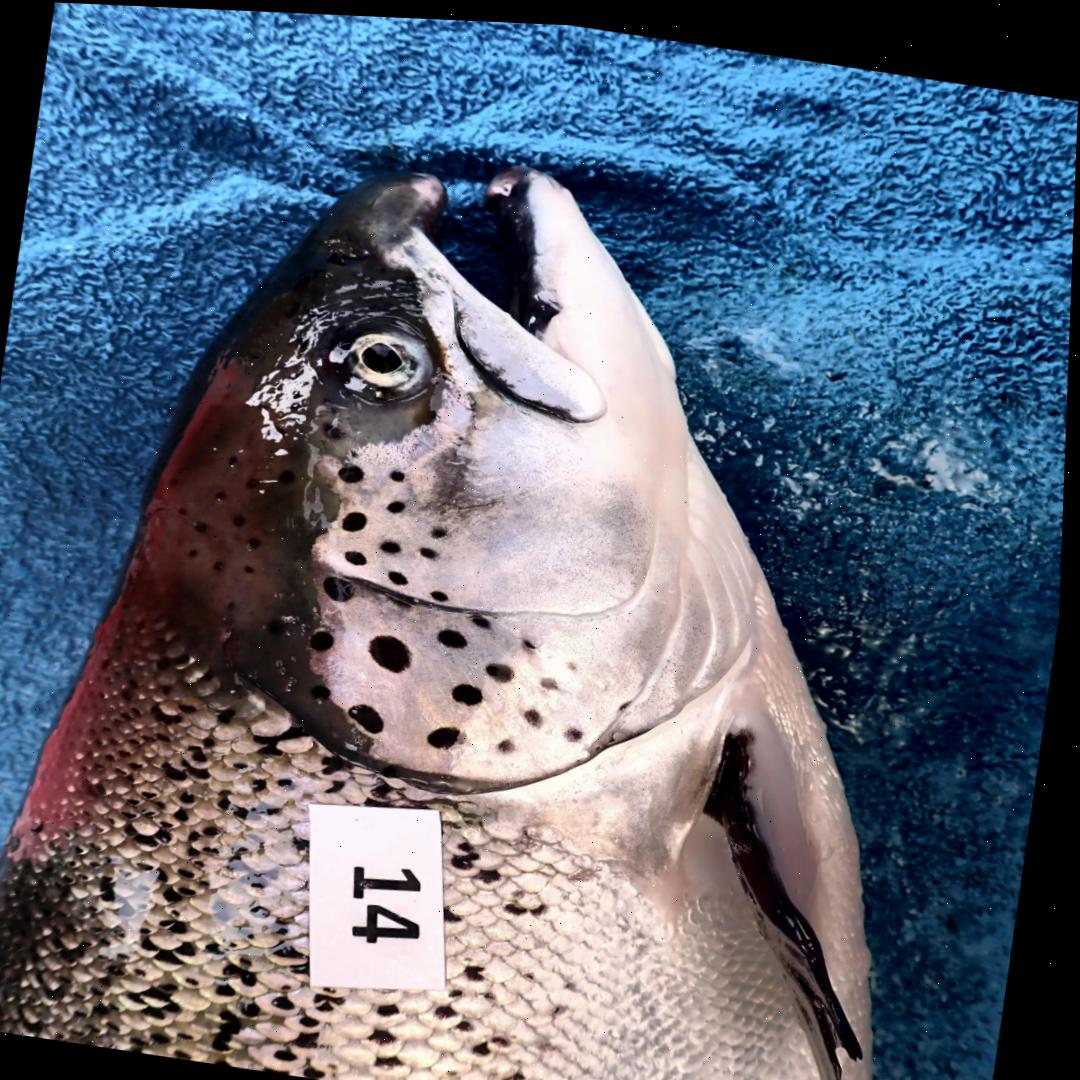spot: (373, 631, 416, 670), (353, 701, 389, 730), (327, 573, 358, 598), (431, 722, 464, 744), (457, 679, 487, 700), (490, 657, 519, 678), (442, 624, 471, 645), (346, 508, 371, 528), (313, 628, 337, 648), (341, 462, 365, 480), (569, 721, 590, 739), (528, 704, 548, 722), (348, 547, 370, 562), (474, 611, 496, 625), (316, 681, 335, 697), (384, 537, 405, 551), (392, 568, 412, 581), (544, 672, 564, 685), (503, 735, 521, 749), (390, 497, 407, 510), (436, 586, 453, 598), (422, 544, 442, 554), (622, 693, 637, 706), (393, 466, 408, 478), (435, 524, 450, 534), (526, 635, 540, 645), (572, 657, 581, 664)
